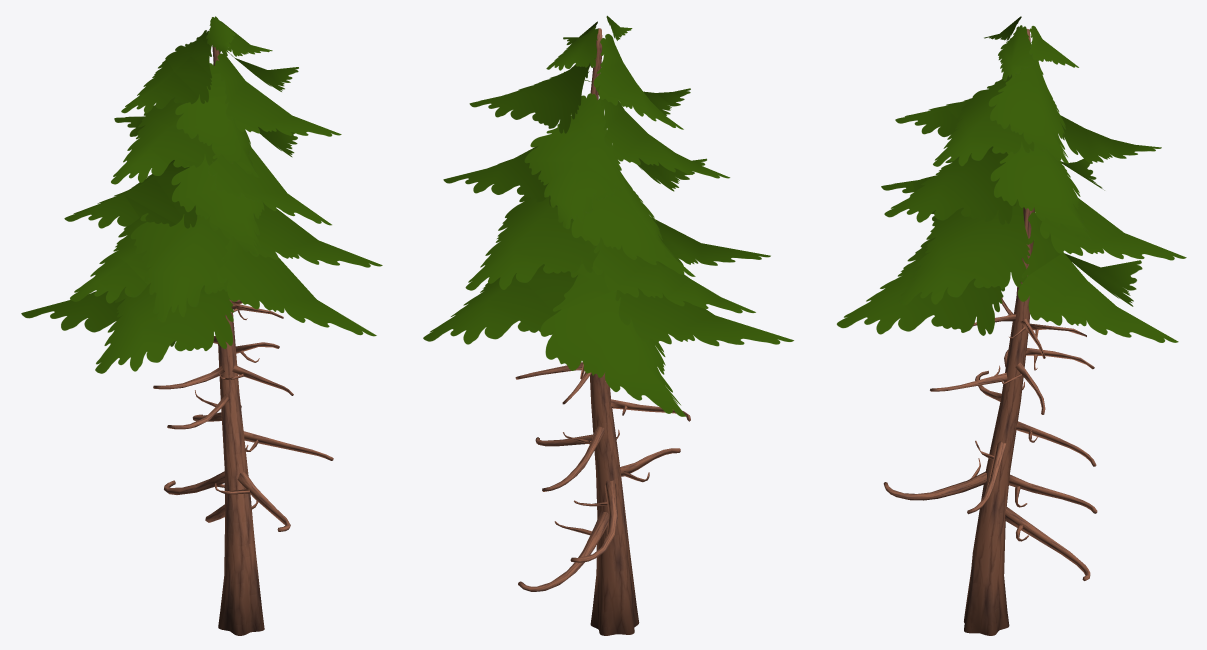
File: pine-2.glb
3 renders of one model, left to right at view 1: azimuth 30°, elevation 25°; view 2: azimuth 150°, elevation 25°; view 3: azimuth 270°, elevation 25°, orthographic. The views are drawn at different scales.
Parts seen in each view (by area): view 1: Pine_3; view 2: Pine_3; view 3: Pine_3.
Part boxes in pixels (<box>): Pine_3: <box>21,16,382,635</box>; Pine_3: <box>423,15,793,635</box>; Pine_3: <box>837,16,1186,635</box>.
Size of the model in its own units: 3.61 by 7.39 by 4.
Materials: 2 (2 with a texture image).
